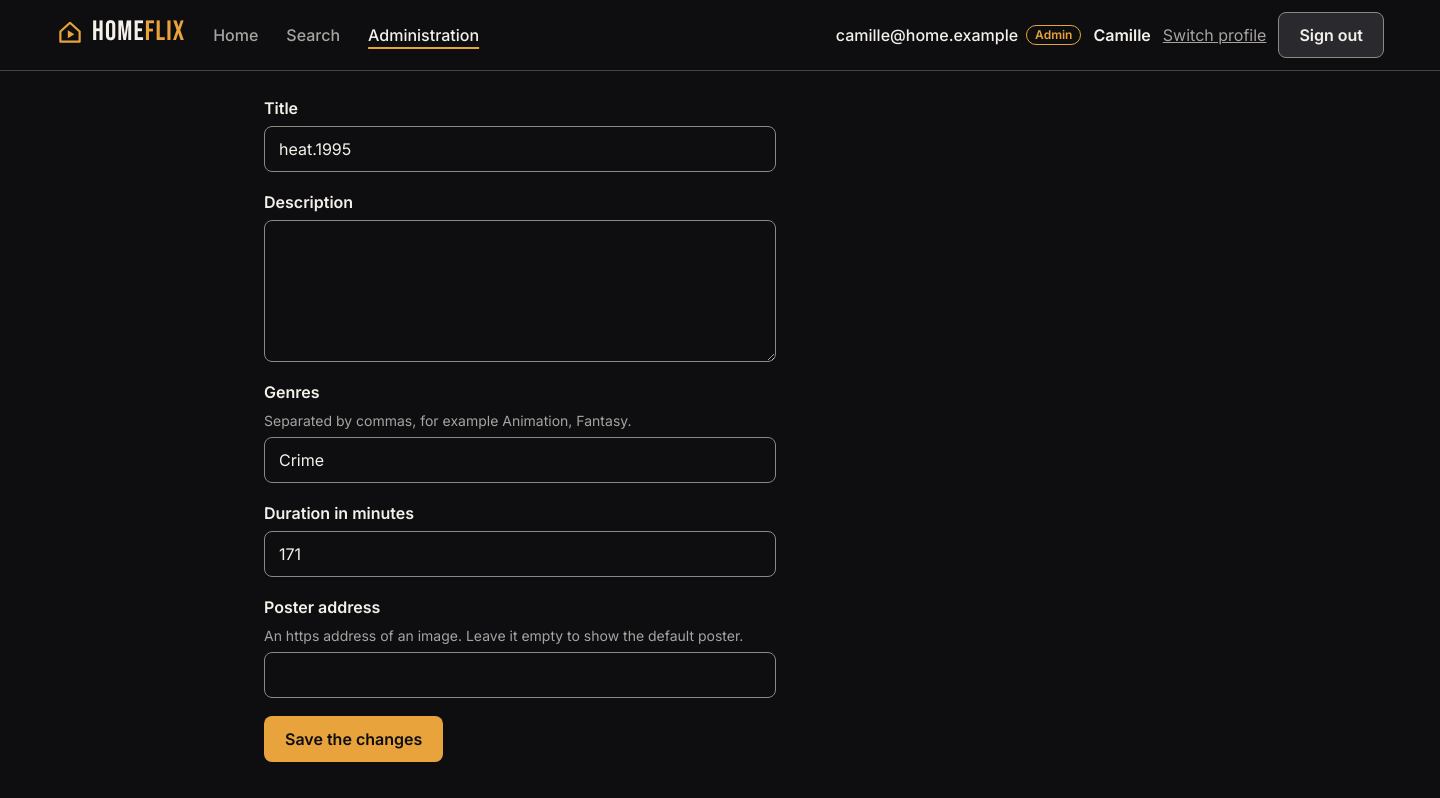
MediaEditPage › sends a changed duration in seconds, and an emptied field as null
(page scrolled)
Replace the text in the field labelled "Duration in minutes" with "170". click: (520,554)
box: x1=264 y1=530 x2=776 y2=576
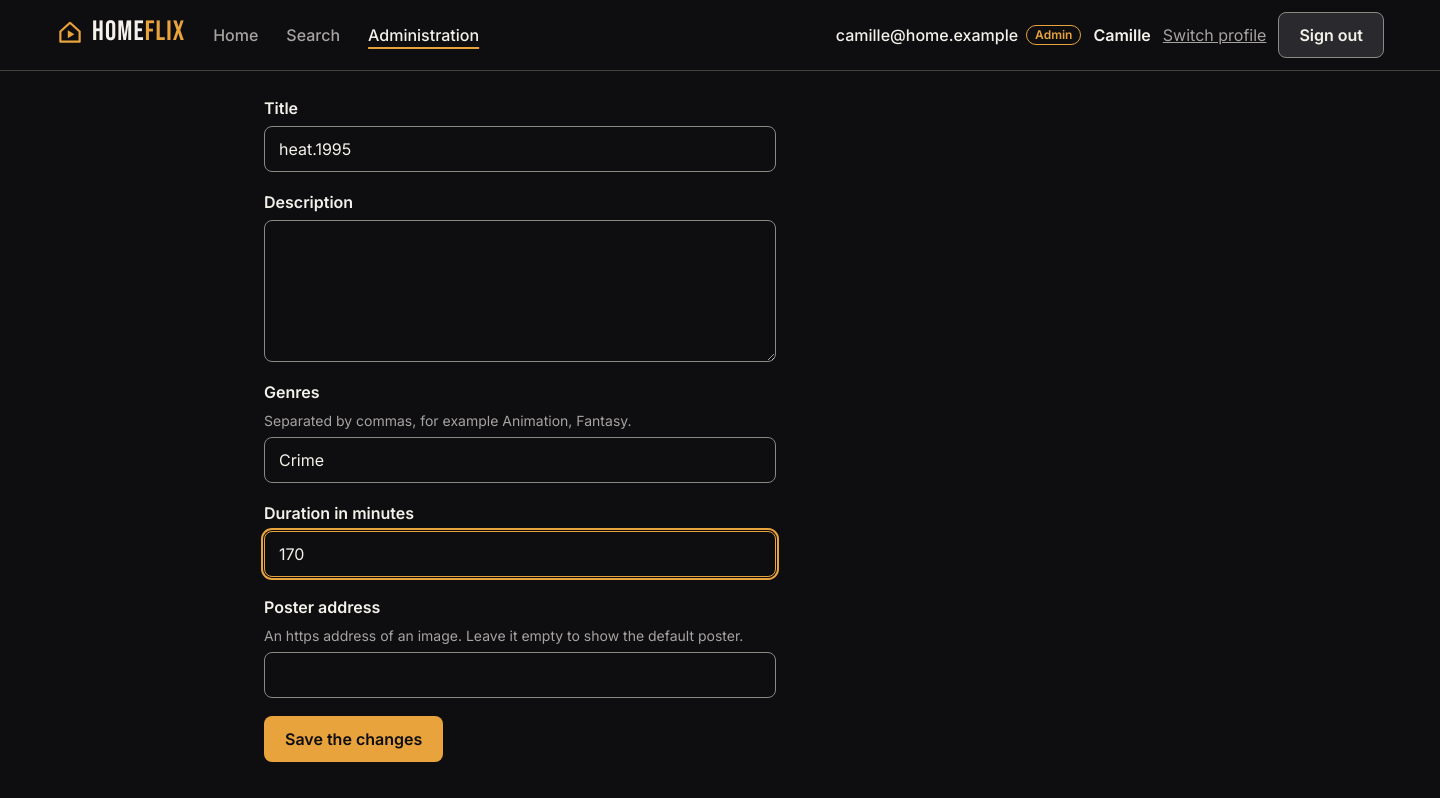
Clear the field labelled "Genres". click: (520,460)
box: x1=264 y1=436 x2=776 y2=482
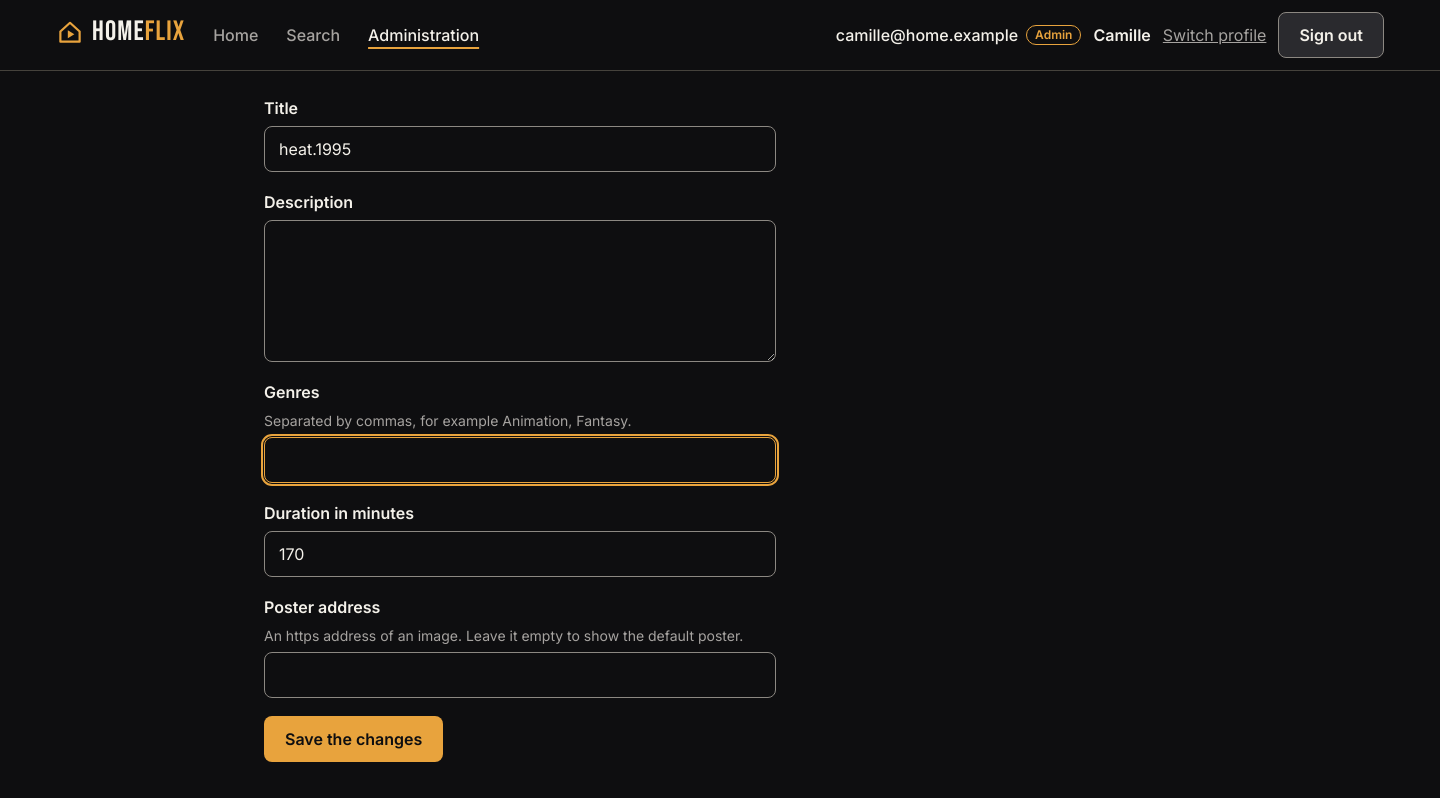
Click the button "Save the changes". click: (354,738)
box: x1=264 y1=716 x2=443 y2=762
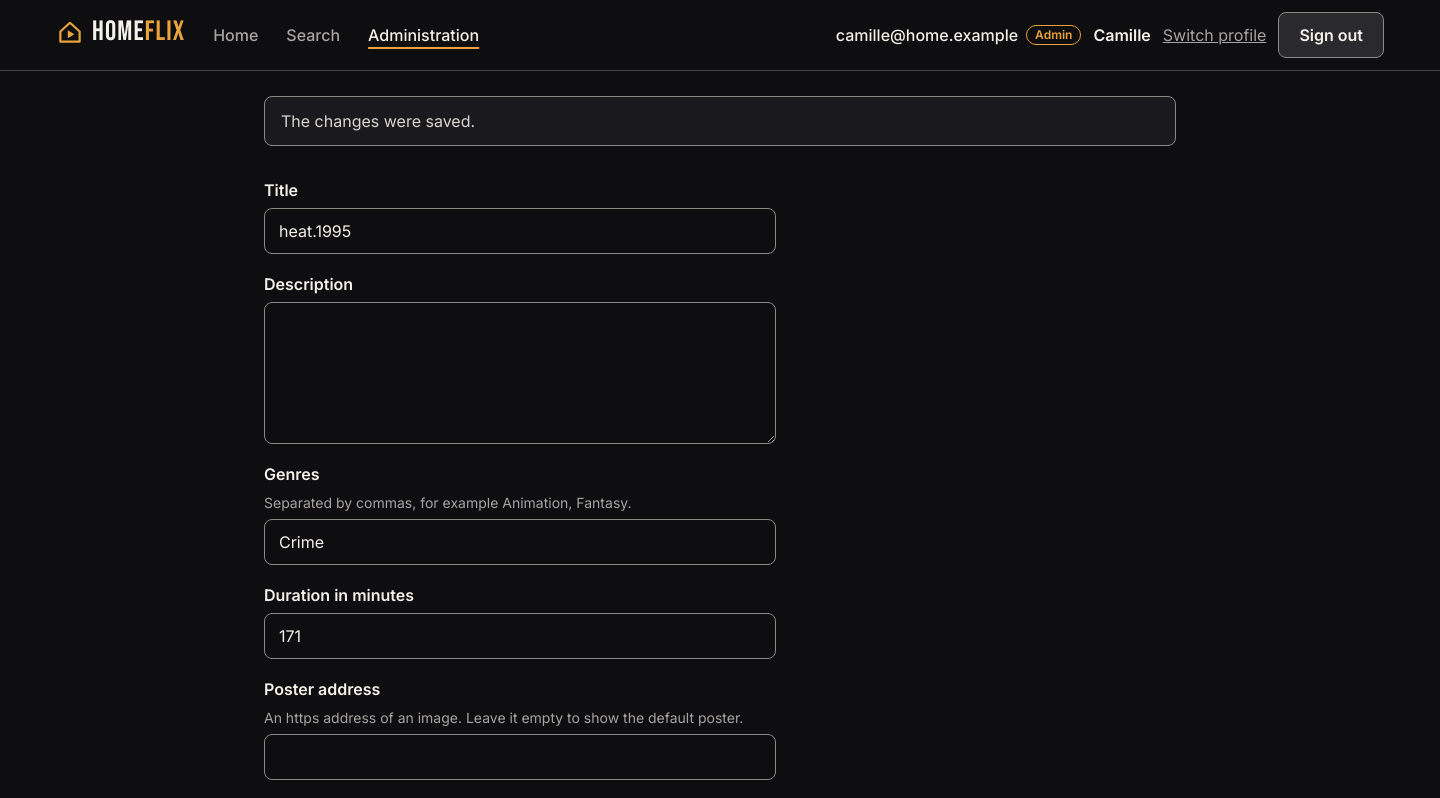
Now the message "The changes were saved." is shown, box x1=264 y1=96 x2=1176 y2=146
